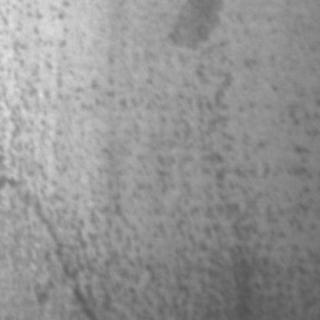pitted_surface: (18, 0, 316, 304)
